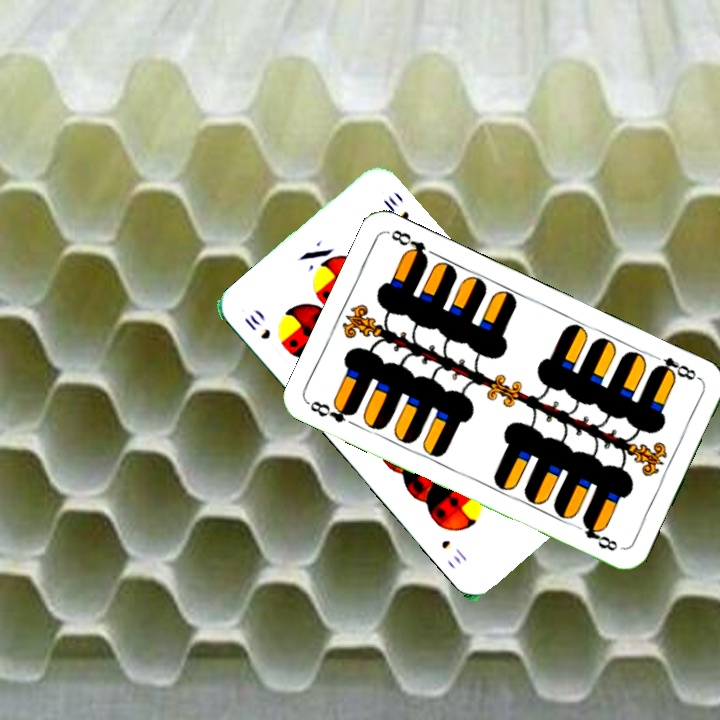E8: (648, 350, 703, 383), (305, 396, 359, 426)
S10: (240, 310, 274, 342)
